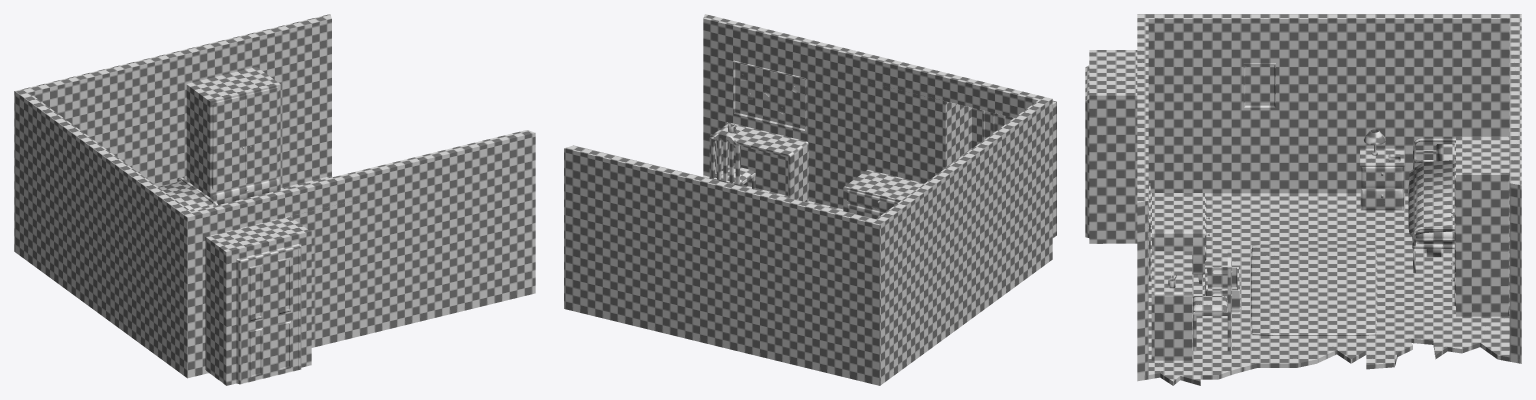
File: PROJECT DREAM - Bedroom - EXAMPLE PLACEMENT.fbx
The picture shows the model from 3 angles, left to right: view 1: azimuth 30°, elevation 25°; view 2: azimuth 150°, elevation 25°; view 3: azimuth 270°, elevation 25°; orthographic projection. The views are drawn at different scales.
Visible parts, largest first — view 1: Bedroom - Example; view 2: Bedroom - Example; view 3: Bedroom - Example.
Boxes of the visible parts, box(x1,y1,x2,y2) form: Bedroom - Example: box(14, 14, 535, 385); Bedroom - Example: box(564, 14, 1056, 385); Bedroom - Example: box(1085, 14, 1521, 385).
Bounding box in the file's own units: 953 × 410 × 908.
Materials: 1 (1 with a texture image).
